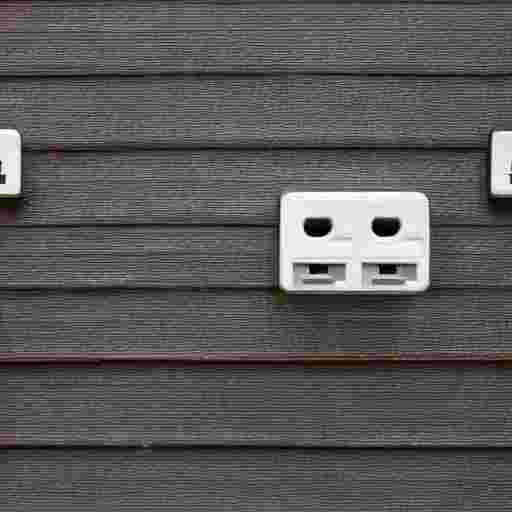power outlet: (279, 192, 429, 292), (490, 130, 511, 197)
